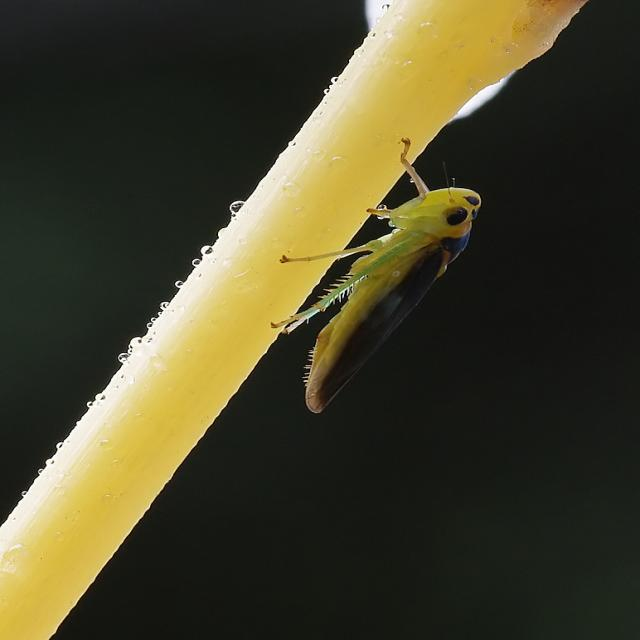Yechan: (262, 135, 506, 421)
